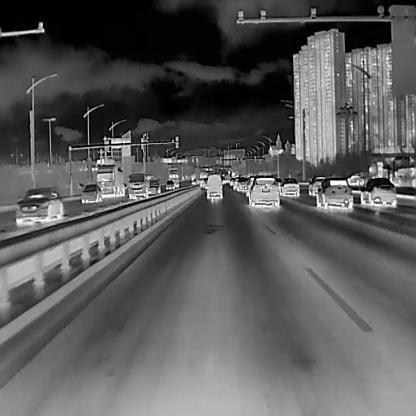car: (13, 187, 63, 226), (315, 175, 353, 209), (359, 177, 396, 206), (247, 176, 279, 208), (96, 164, 124, 197), (128, 172, 148, 199), (206, 174, 222, 199), (80, 183, 100, 201), (281, 177, 299, 197), (308, 174, 319, 195), (166, 167, 178, 186), (148, 177, 159, 193), (245, 178, 254, 195), (237, 176, 247, 191), (165, 179, 174, 189)
